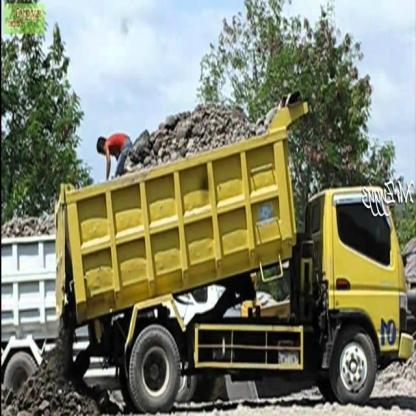truck: (55, 94, 415, 416)
